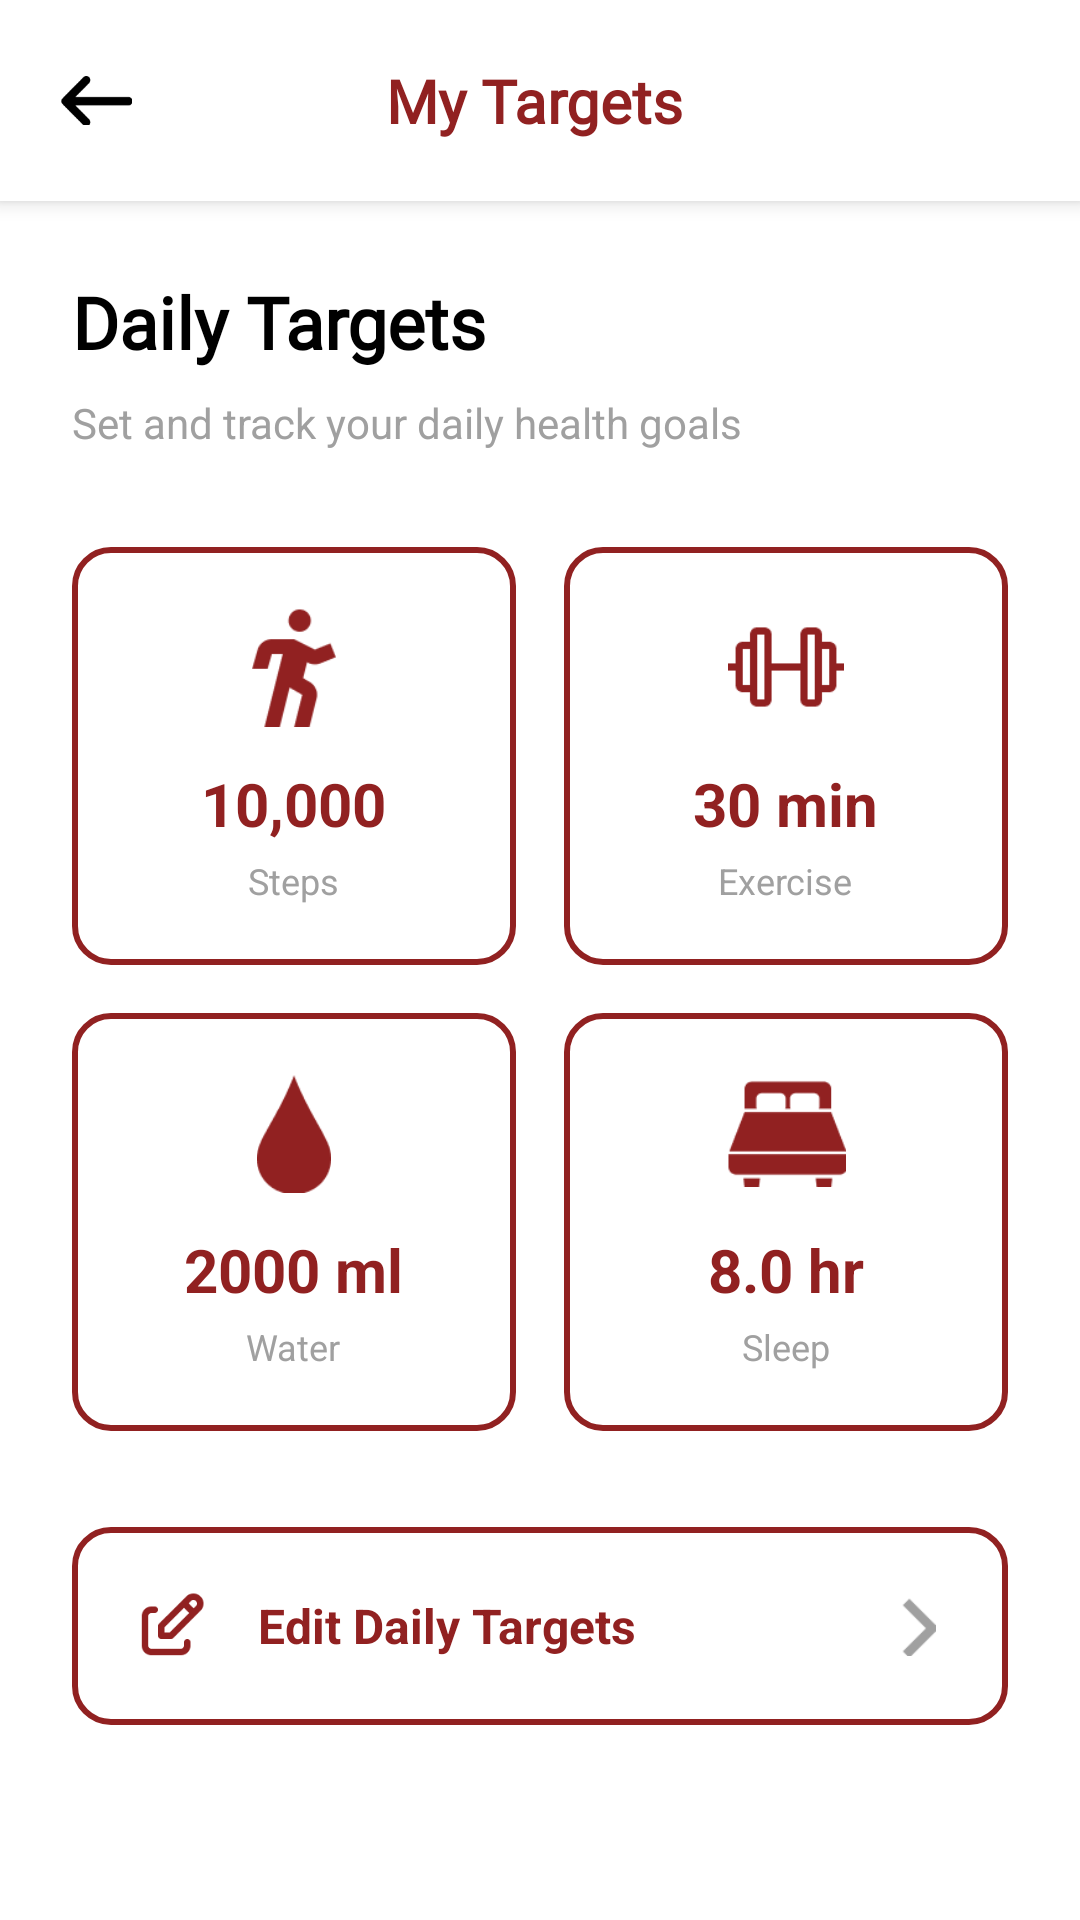

Icons on this 1080px×1920px Android screen, each with its box as (x1, y1, x2, y2):
back: (61, 76, 132, 125)
next: (903, 1599, 936, 1656)
tabler edit: (141, 1593, 204, 1656)
